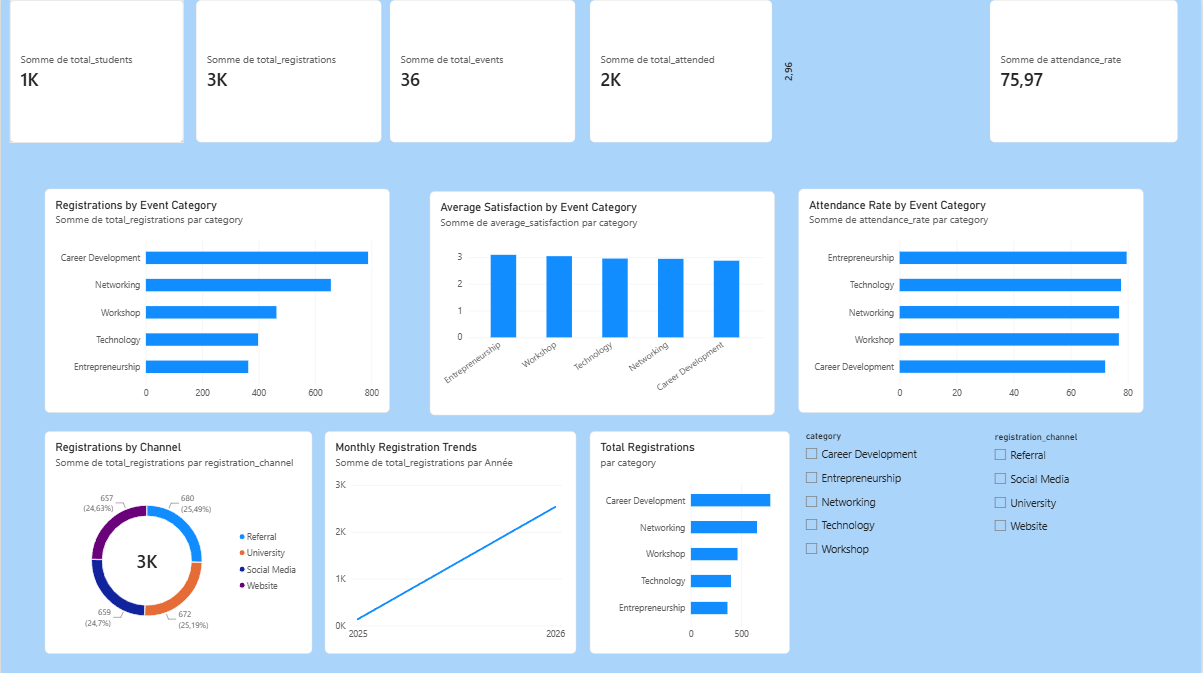

This screenshot's page, from the dashboard's own definition file:
{"tool":"powerbi","page":{"name":"Executive Overview","canvas":[1920,1080],"ordinal":0},"visuals":[{"type":"cardVisual","fields":{"Data":["Sum(public vw_overall_kpis.total_students)"]},"box":[14.3,0,278.6,228.6],"z":0},{"type":"cardVisual","fields":{"Data":["Sum(public vw_overall_kpis.total_registrations)"]},"box":[311.4,0,297.1,228.6],"z":1000},{"type":"cardVisual","fields":{"Data":["Sum(public vw_overall_kpis.total_events)"]},"box":[621.4,0,297.1,228.6],"z":2000},{"type":"cardVisual","fields":{"Data":["Sum(public vw_overall_kpis.total_attended)"]},"box":[941.4,0,292.9,228.6],"z":3000},{"type":"cardVisual","fields":{"Data":["Sum(public vw_overall_kpis.attendance_rate)"]},"box":[1581.7,0,301.7,228.3],"z":4000},{"type":"barChart","title":"Registrations by Event Category","fields":{"Category":["public vw_category_performance.category"],"Y":["Sum(public vw_category_performance.total_registrations)"]},"box":[70.6,302.2,551.9,358.3],"z":5000},{"type":"lineChart","title":"Monthly Registration Trends","fields":{"Category":["public vw_monthly_trends.registration_month.Variation.Hiérarchie de dates.Année","public vw_monthly_trends.registration_month.Variation.Hiérarchie de dates.Trimestre","public vw_monthly_trends.registration_month.Variation.Hiérarchie de dates.Mois","public vw_monthly_trends.registration_month.Variation.Hiérarchie de dates.Jour"],"Y":["Sum(public vw_monthly_trends.total_registrations)"]},"box":[518,690,402,356],"z":6000},{"type":"cardVisual","fields":{"Rows":["public vw_overall_kpis.average_satisfaction"]},"box":[1248.6,0,305.7,228.6],"z":7000},{"type":"clusteredBarChart","title":"Attendance Rate by Event Category","fields":{"Category":["public vw_category_performance.category"],"Y":["Sum(public vw_category_performance.attendance_rate)"]},"box":[1275,302.5,552,358],"z":8000},{"type":"clusteredColumnChart","title":"Average Satisfaction by Event Category","fields":{"Category":["public vw_category_performance.category"],"Y":["Sum(public vw_category_performance.average_satisfaction)"]},"box":[685,305,552,358],"z":9000},{"type":"donutChart","title":"Registrations by Channel","fields":{"Category":["public vw_channel_performance.registration_channel"],"Y":["Sum(public vw_channel_performance.total_registrations)"]},"box":[70,690,428,356],"z":10000},{"type":"slicer","title":"Filter by Event Category","fields":{"Values":["public events.category"]},"box":[1280,688,276,358],"z":11000},{"type":"slicer","title":"Filter by Registration Channel","fields":{"Values":["public vw_channel_performance.registration_channel"]},"box":[1582,690,274,356],"z":12000},{"type":"clusteredBarChart","fields":{"Category":["public events.category"],"Y":["public registrations.Total Registrations"]},"box":[942,690,320,356],"z":13000}]}

Visuals, with their boxes in screenshot pixels (x1, y1, x2, y2), scaled from the page's 1920x1080 canvas onto the 1203x673 screenshot:
cardVisual - Sum(public vw_overall_kpis.total_students): (9, 0, 184, 142)
cardVisual - Sum(public vw_overall_kpis.total_registrations): (195, 0, 381, 142)
cardVisual - Sum(public vw_overall_kpis.total_events): (389, 0, 575, 142)
cardVisual - Sum(public vw_overall_kpis.total_attended): (590, 0, 773, 142)
cardVisual - Sum(public vw_overall_kpis.attendance_rate): (991, 0, 1180, 142)
"Registrations by Event Category" barChart: (44, 188, 390, 412)
"Monthly Registration Trends" lineChart: (325, 430, 576, 652)
cardVisual - public vw_overall_kpis.average_satisfaction: (782, 0, 974, 142)
"Attendance Rate by Event Category" clusteredBarChart: (799, 189, 1145, 412)
"Average Satisfaction by Event Category" clusteredColumnChart: (429, 190, 775, 413)
"Registrations by Channel" donutChart: (44, 430, 312, 652)
"Filter by Event Category" slicer: (802, 429, 975, 652)
"Filter by Registration Channel" slicer: (991, 430, 1163, 652)
clusteredBarChart - public events.category x public registrations.Total Registrations: (590, 430, 791, 652)
